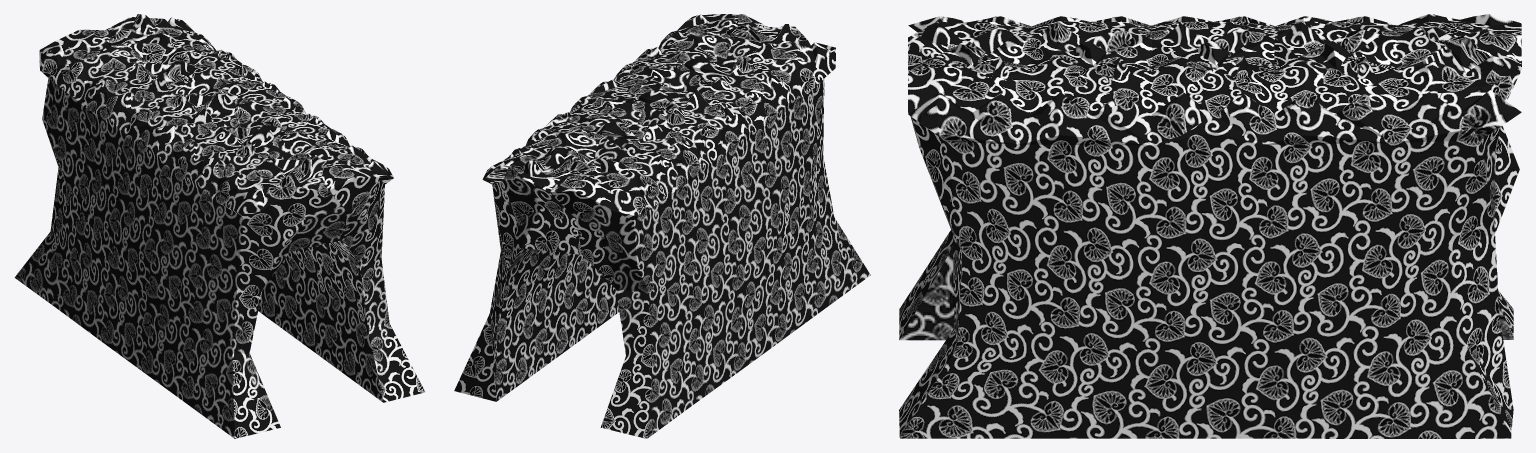
Rendered from Cave.FBX.
3 renders of one model, left to right at view 1: azimuth 30°, elevation 25°; view 2: azimuth 150°, elevation 25°; view 3: azimuth 270°, elevation 25°, orthographic. The views are drawn at different scales.
Parts seen in each view (by area): view 1: Cave; view 2: Cave; view 3: Cave.
Part boxes in pixels (box(x1,y1,x2,y2)): Cave: box(14, 14, 424, 438); Cave: box(454, 14, 870, 438); Cave: box(899, 14, 1521, 438).
Bounding box in the file's own units: 158 × 189 × 319.
